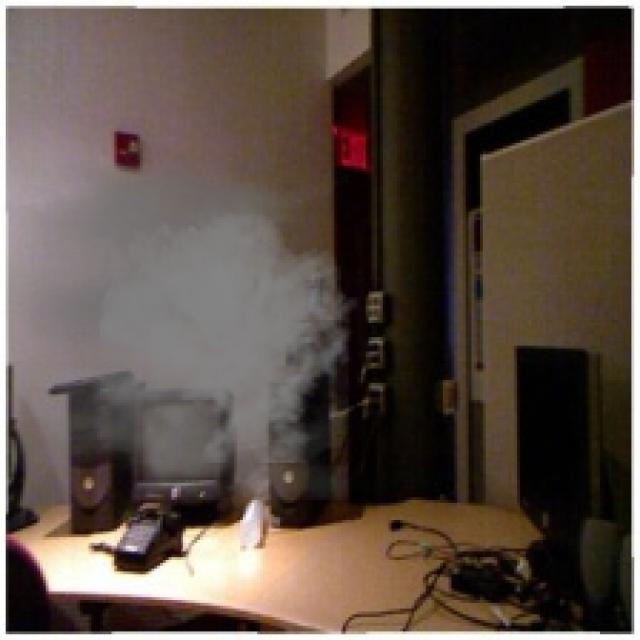Smoke: (6, 157, 360, 500)
